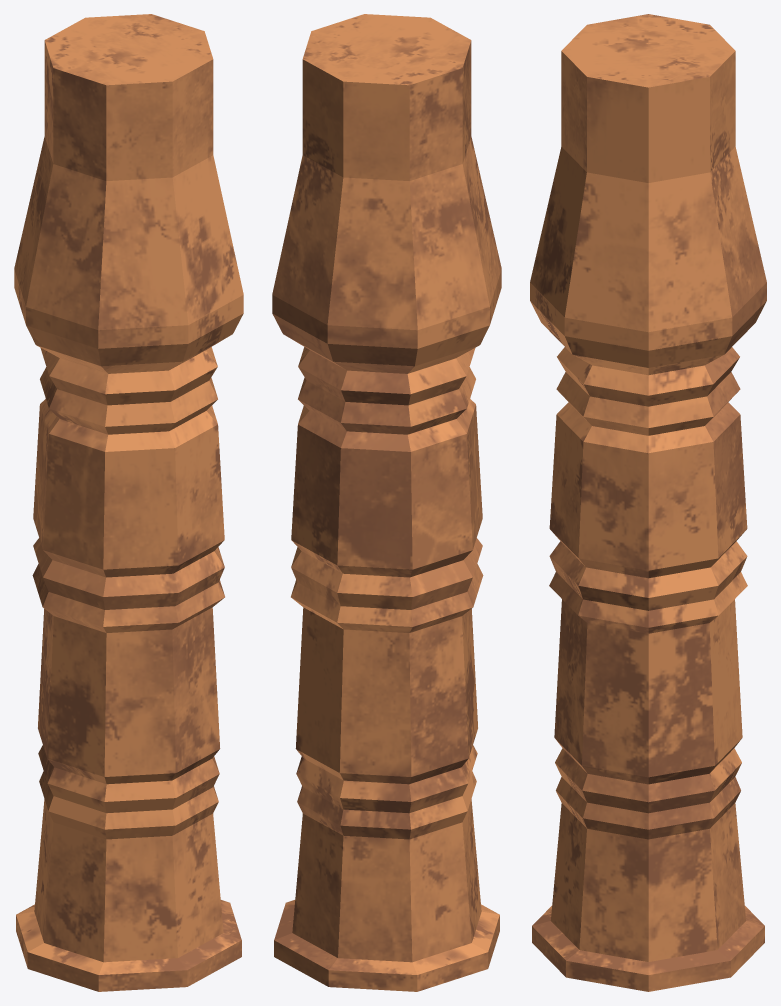
The model's file is column01.fbx.
3 views of the same model, side by side, from view 1: azimuth 30°, elevation 25°; view 2: azimuth 150°, elevation 25°; view 3: azimuth 270°, elevation 25° (orthographic).
Visible parts, largest first — view 1: pCylinder3; view 2: pCylinder3; view 3: pCylinder3.
Boxes of the visible parts, x1,y1,x2,y2 form: pCylinder3: [14, 14, 243, 991]; pCylinder3: [272, 14, 501, 991]; pCylinder3: [530, 14, 766, 991].
Bounding box in the file's own units: 1.3 × 5.42 × 1.3.
